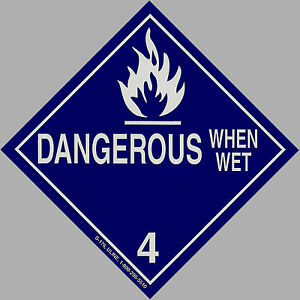Dangerous when wet: (1, 1, 300, 300)
